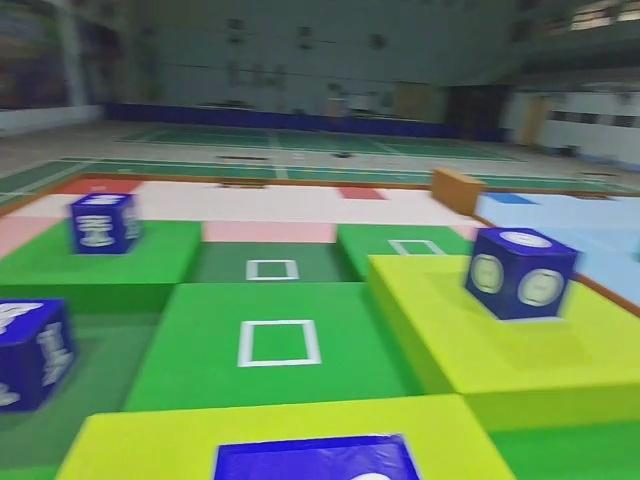R2 Real Blue: (467, 227, 581, 324), (0, 301, 76, 421), (65, 192, 139, 257)
